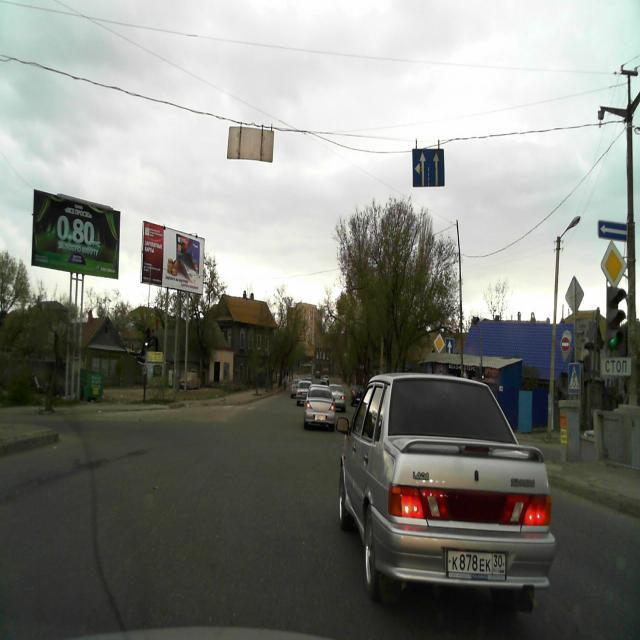road sign: (599, 242, 627, 289), (413, 149, 445, 188), (599, 354, 631, 375), (597, 219, 628, 238), (568, 362, 584, 391), (434, 334, 444, 353), (445, 338, 454, 354)
